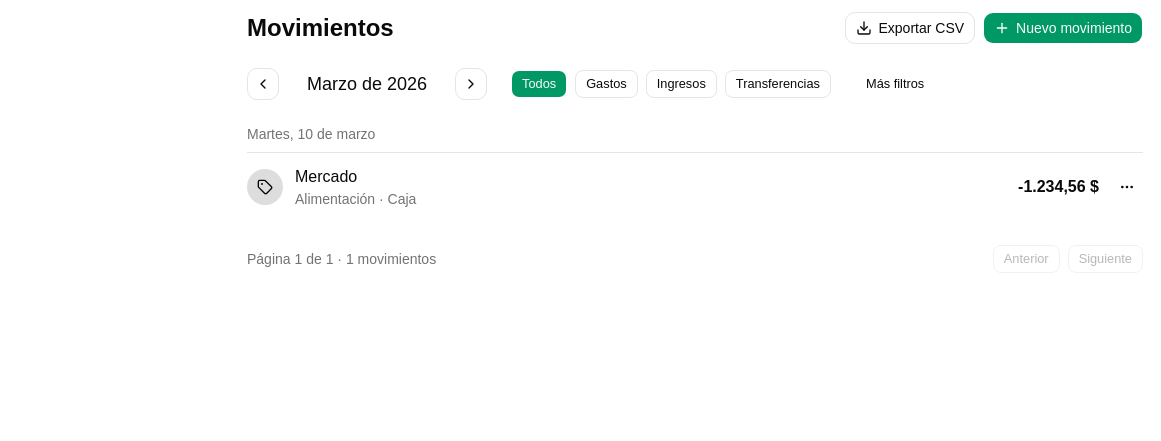
Test: TransactionsPage › period and filters › account and category are in "Más filtros" and filter the list
The width and height of the screenshot is (1161, 441).
Expected: the text "Mercado" is shown, [295,165,357,189]
Expected: the field labelled "Cuenta" is not shown
Click the button "Más filtros": [895, 84] box [855,70,935,98]
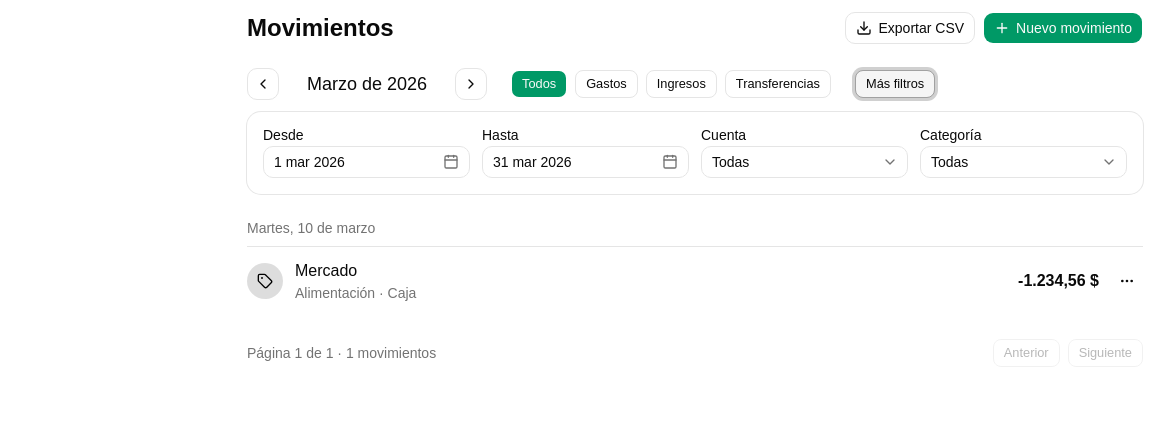
Select "Banco" in the dropdown labelled "Cuenta": [804, 162] box [701,146,908,178]
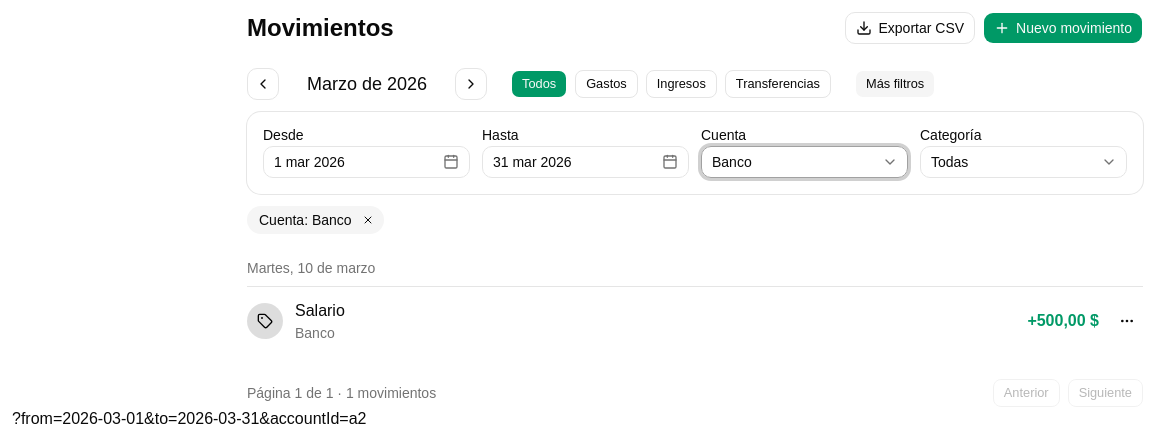
Expected: the text "Salario" is shown, [295,299,345,323]
